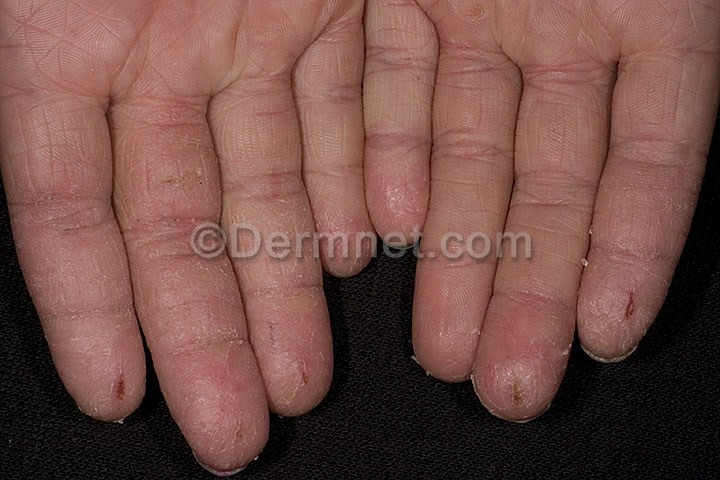Eczema: (143, 109, 269, 474), (10, 182, 146, 423), (583, 135, 704, 350), (273, 195, 339, 417), (473, 284, 579, 408), (407, 270, 481, 373), (365, 142, 432, 243), (332, 200, 378, 268)
